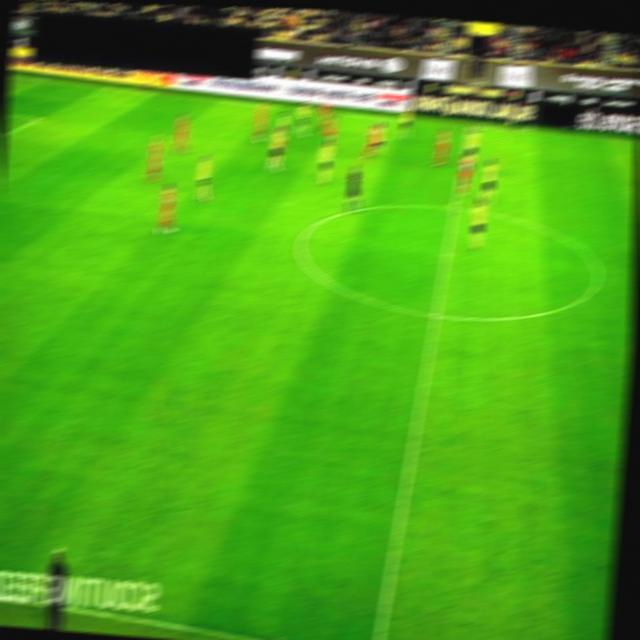bigarea_top_inner: (30, 112, 47, 124)
halfcircle_bottom: (427, 309, 445, 322)
halfcircle_top: (447, 202, 463, 214)
midline_top_intersection: (460, 120, 477, 132)
